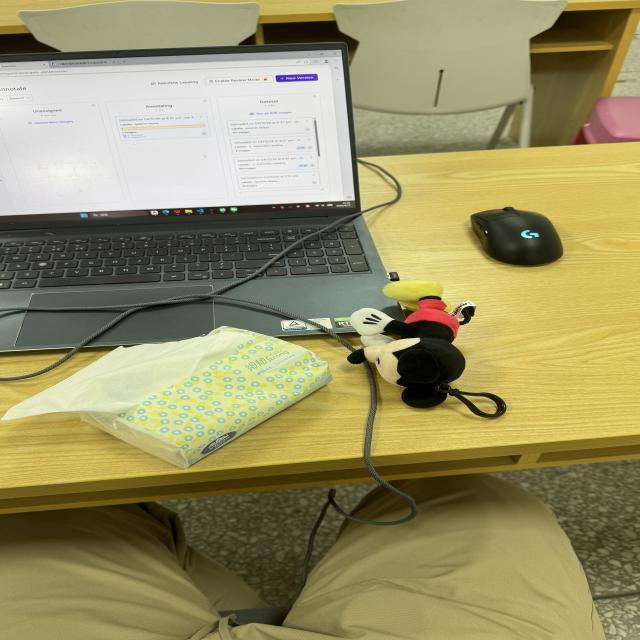mickey: (348, 281, 474, 408)
tissue: (3, 328, 331, 467)
